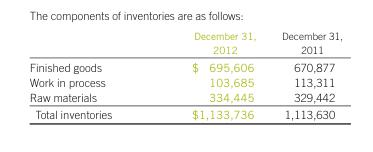table: (28, 29, 341, 121)
table column: (28, 29, 151, 121), (151, 29, 268, 121), (268, 29, 341, 121)
table column header: (28, 29, 341, 57)
table row: (28, 29, 341, 57), (28, 57, 341, 73), (28, 73, 341, 89), (28, 89, 341, 105), (28, 105, 341, 121)
